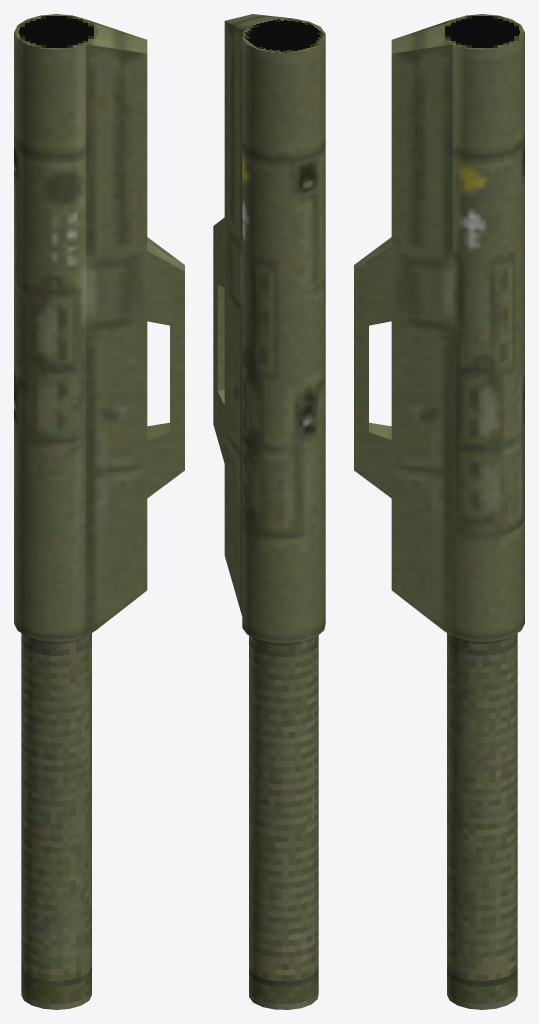
File: LAW80_AntiTankLauncher.glb
3 views of the same model, side by side, from view 1: azimuth 90°, elevation 25°; view 2: azimuth 210°, elevation 25°; view 3: azimuth 270°, elevation 25° (orthographic).
Visible parts, largest first — view 1: LAW80_ANTITANKLAUNCHER; view 2: LAW80_ANTITANKLAUNCHER; view 3: LAW80_ANTITANKLAUNCHER.
Part boxes in pixels (x1=…): LAW80_ANTITANKLAUNCHER: x1=14, y1=14, x2=184, y2=1009; LAW80_ANTITANKLAUNCHER: x1=213, y1=14, x2=325, y2=1009; LAW80_ANTITANKLAUNCHER: x1=354, y1=14, x2=524, y2=1009.
Size of the model in its own units: 0.12 by 1.5 by 0.241.
Materials: 3 (3 with a texture image).
